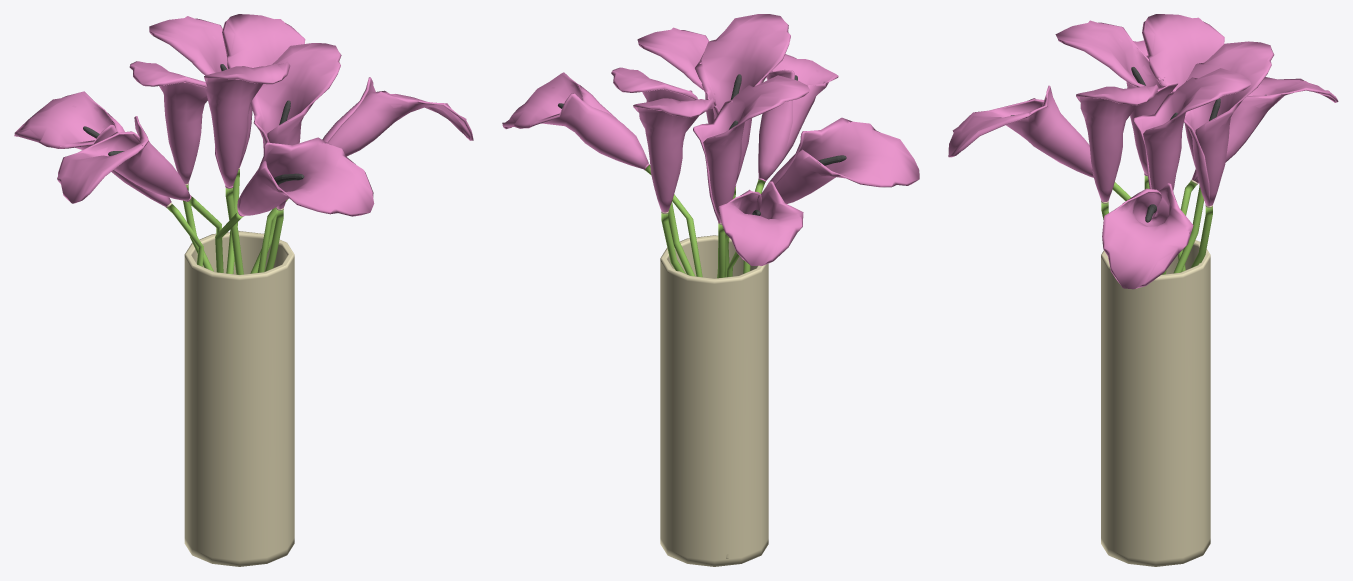
File: цветок3.fbx
3 views of the same model, side by side, from view 1: azimuth 30°, elevation 25°; view 2: azimuth 150°, elevation 25°; view 3: azimuth 270°, elevation 25° (orthographic).
Parts seen in each view (by area): view 1: Flower jug-02; view 2: Flower jug-02; view 3: Flower jug-02.
Part boxes in pixels (x1,y1,x2,y2): Flower jug-02: [14, 14, 473, 566]; Flower jug-02: [502, 14, 919, 566]; Flower jug-02: [948, 14, 1338, 566].
Size of the model in its own units: 23.93 by 28.41 by 19.94.
